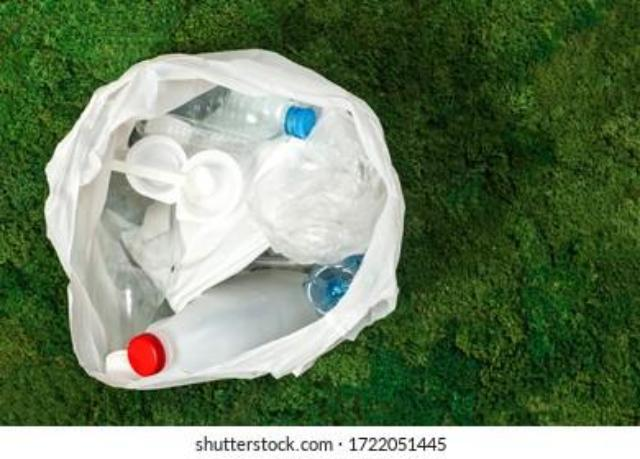Garbage: (48, 52, 408, 377)
Plastic: (250, 109, 386, 264), (126, 269, 319, 377), (72, 173, 185, 354), (113, 135, 242, 222), (304, 255, 363, 315)
contaminated_waste: (97, 272, 326, 384), (173, 85, 318, 145)
